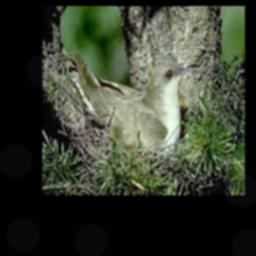Cuckoo: (76, 52, 201, 155)
